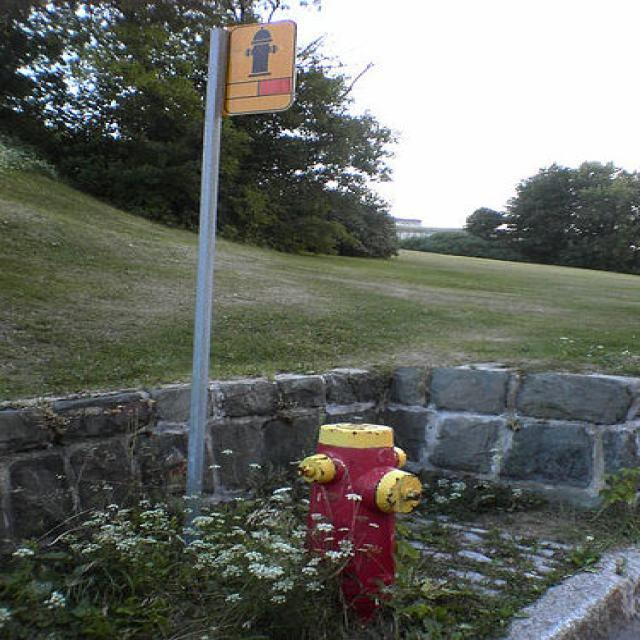fire_hydrant: (298, 413, 426, 612)
